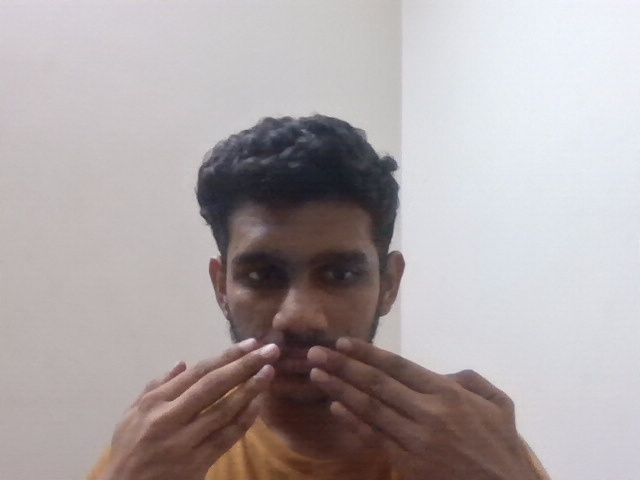thanks: (94, 335, 623, 472)
